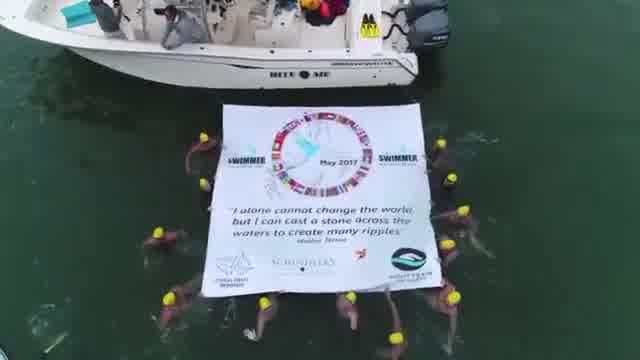human: (136, 284, 206, 326), (424, 282, 462, 356), (378, 291, 413, 357), (173, 128, 219, 172), (134, 229, 192, 263), (248, 294, 286, 342), (426, 208, 480, 236), (328, 292, 366, 330), (432, 236, 464, 274)
